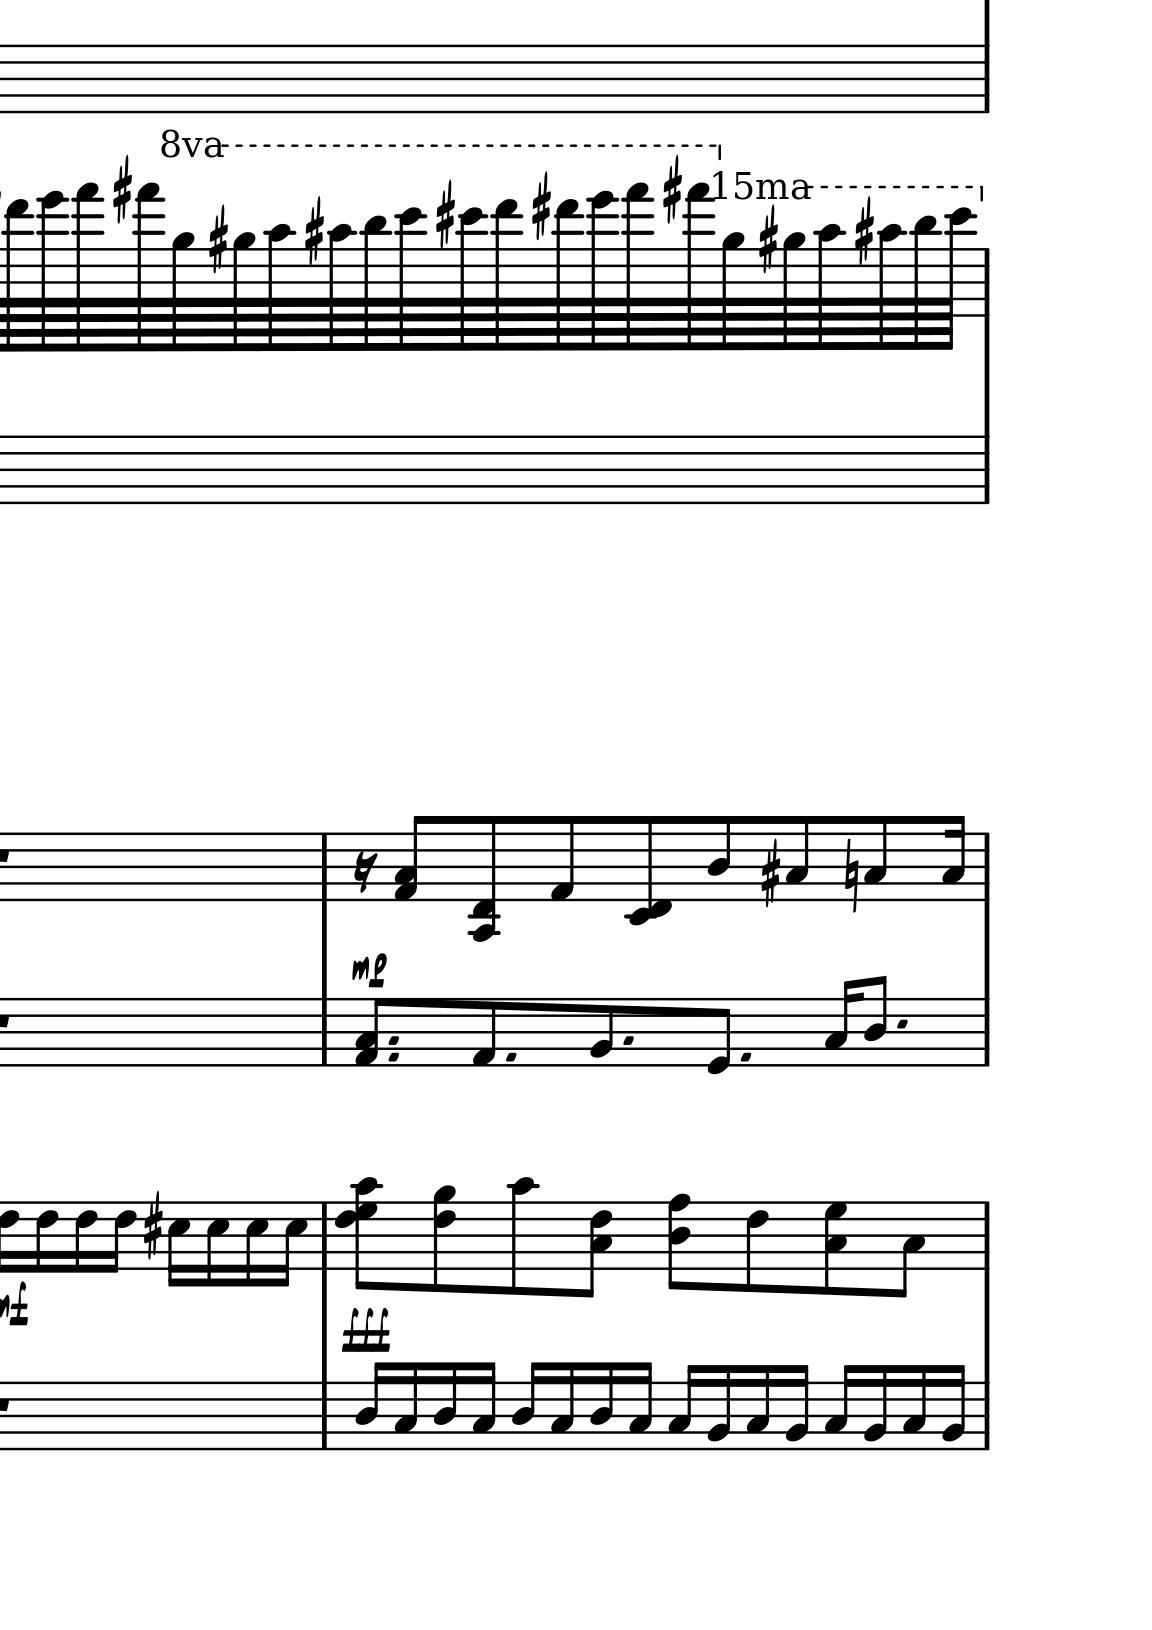16_2: (704, 1363, 733, 1453), (862, 1363, 889, 1453), (940, 1363, 967, 1453), (783, 1363, 809, 1453)
16_3: (822, 978, 863, 1068), (665, 1363, 699, 1452), (822, 1363, 857, 1452), (391, 1360, 420, 1453), (469, 1360, 497, 1452), (549, 1360, 576, 1452), (626, 1360, 653, 1452), (939, 813, 966, 903), (744, 1363, 770, 1452), (901, 1363, 928, 1452)
16_4: (353, 1360, 386, 1452), (509, 1360, 542, 1451), (431, 1360, 458, 1452), (588, 1360, 615, 1452)
16_5: (279, 1200, 307, 1289), (103, 1200, 136, 1275), (204, 1200, 229, 1289), (244, 1200, 269, 1289), (166, 1200, 190, 1289), (32, 1199, 59, 1275), (72, 1199, 97, 1275)
64_10: (263, 223, 295, 353), (325, 224, 358, 354), (814, 223, 847, 353), (874, 222, 906, 351)
64_11: (359, 216, 394, 351), (908, 213, 943, 349)
64_12: (456, 206, 491, 351), (395, 207, 430, 351), (943, 207, 977, 351)
64_13: (2, 199, 34, 353), (554, 196, 583, 350), (492, 198, 522, 351)
64_14: (32, 191, 69, 354), (586, 189, 622, 351)
64_15: (69, 181, 106, 355), (128, 181, 165, 354), (621, 179, 655, 351), (679, 181, 713, 351)
64_9: (170, 231, 198, 354), (229, 231, 258, 354), (721, 229, 748, 351), (780, 231, 808, 353)
8_-2_-1: (623, 814, 674, 926)
8_-4_-1: (468, 815, 504, 942)
8_0: (704, 997, 733, 1078)
8_1: (547, 814, 575, 903), (469, 996, 497, 1069)
8_10: (506, 1174, 539, 1299)
8_1_3: (393, 814, 431, 901), (354, 997, 386, 1069)
8_2: (587, 997, 613, 1068)
8_3: (890, 1199, 926, 1301), (784, 814, 810, 903), (862, 814, 886, 903)
8_3_6: (580, 1200, 613, 1299)
8_3_7: (822, 1198, 850, 1296)
8_4: (704, 814, 732, 902), (864, 975, 886, 1067)
8_4_8: (666, 1193, 692, 1292)
8_6: (744, 1199, 769, 1296)
8_6_9: (431, 1184, 458, 1296)
8_th: (335, 1176, 385, 1291)
Natural: (842, 837, 860, 915)
Rests16: (352, 849, 377, 895)
Sharp: (758, 842, 780, 910), (111, 155, 132, 226), (206, 203, 227, 274), (141, 1190, 162, 1261), (757, 204, 777, 275), (303, 196, 323, 265), (530, 171, 550, 241), (853, 199, 873, 265), (435, 181, 454, 250), (662, 158, 679, 224)
Single_barline: (312, 998, 337, 1065), (313, 1381, 337, 1449), (974, 436, 997, 503), (313, 834, 337, 900), (975, 1382, 997, 1451), (975, 47, 997, 113), (975, 998, 996, 1065), (975, 1203, 996, 1269), (976, 832, 996, 902), (314, 1203, 334, 1271), (976, 249, 996, 317)
dot: (618, 1029, 638, 1051), (736, 1047, 754, 1065), (385, 1032, 401, 1047), (896, 1017, 913, 1032), (385, 1051, 401, 1063), (505, 1051, 519, 1064)
fff: (338, 1302, 393, 1351)
mp: (349, 953, 389, 984)
